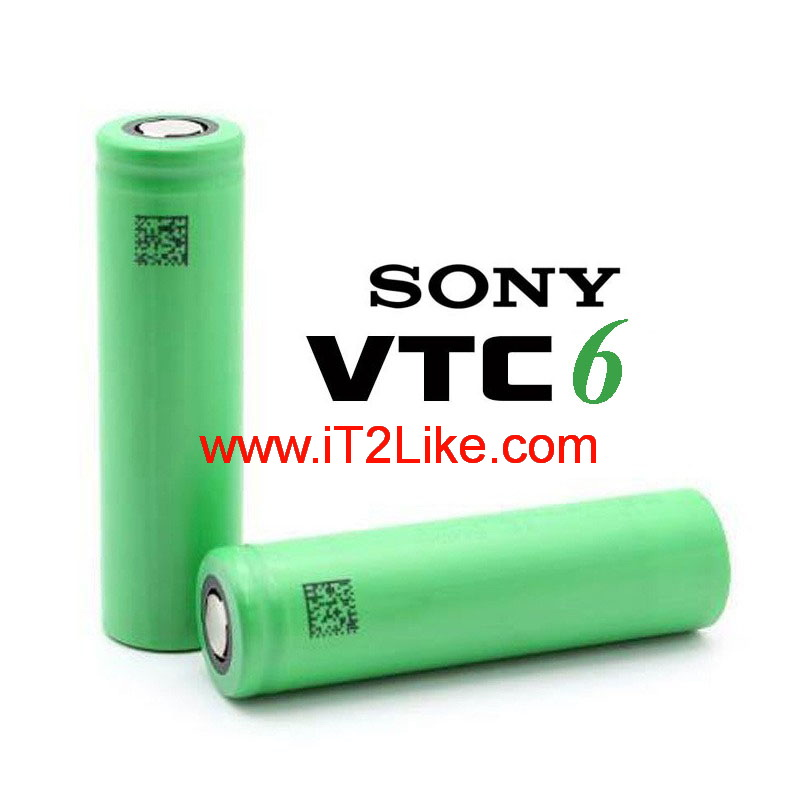Battery: (191, 482, 741, 712), (86, 100, 249, 663)
